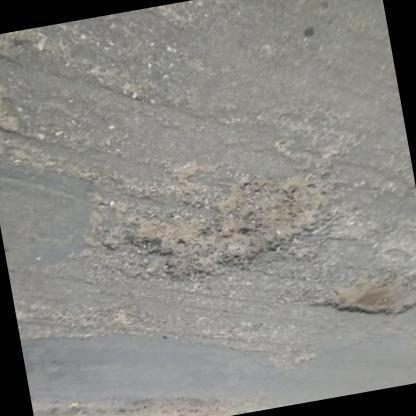pothole: (92, 175, 338, 284), (318, 269, 416, 319)
